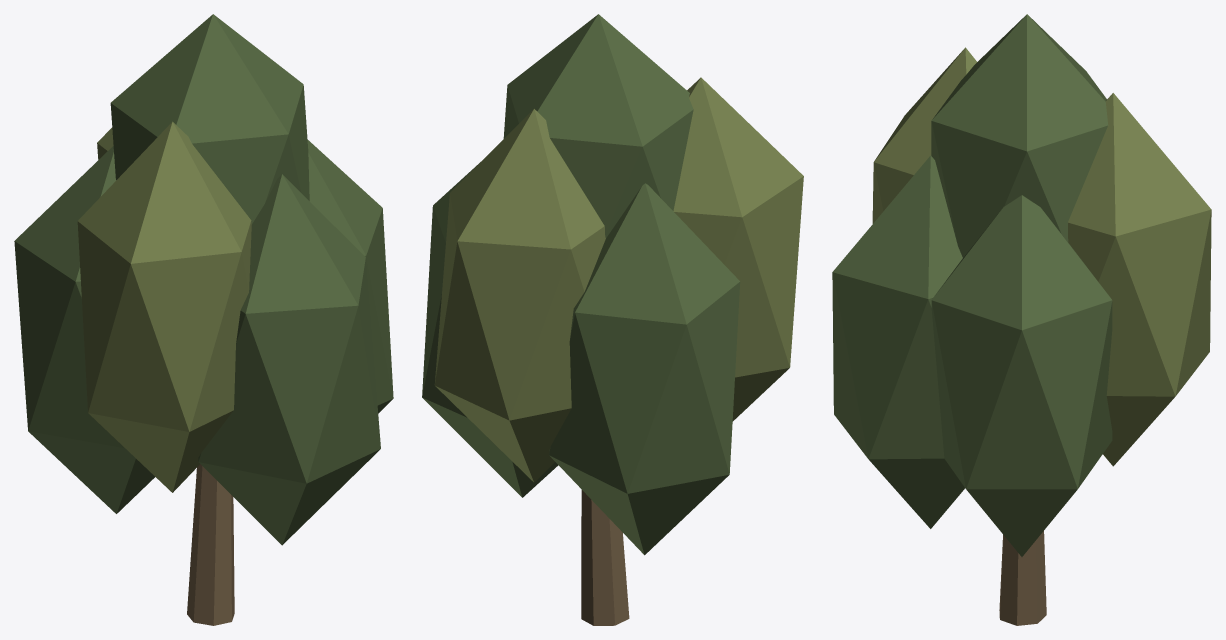
The model's file is broadleaf_olive.glb.
The picture shows the model from 3 angles, left to right: view 1: azimuth 30°, elevation 25°; view 2: azimuth 150°, elevation 25°; view 3: azimuth 270°, elevation 25°; orthographic projection.
Parts seen in each view (by area): view 1: broadleaf_olive_olive, broadleaf_olive_olive_light, broadleaf_olive_oak_dark; view 2: broadleaf_olive_olive, broadleaf_olive_olive_light, broadleaf_olive_oak_dark; view 3: broadleaf_olive_olive, broadleaf_olive_olive_light, broadleaf_olive_oak_dark.
Part boxes in pixels (bbox=[...]): broadleaf_olive_olive: bbox=[14, 14, 393, 545]; broadleaf_olive_olive_light: bbox=[77, 121, 251, 492]; broadleaf_olive_oak_dark: bbox=[187, 464, 234, 625]; broadleaf_olive_olive: bbox=[422, 14, 740, 555]; broadleaf_olive_olive_light: bbox=[434, 77, 803, 482]; broadleaf_olive_oak_dark: bbox=[581, 490, 629, 625]; broadleaf_olive_olive: bbox=[832, 14, 1112, 556]; broadleaf_olive_olive_light: bbox=[872, 47, 1211, 466]; broadleaf_olive_oak_dark: bbox=[999, 531, 1046, 625].
Size of the model in its own units: 3.66 by 6.46 by 3.67.
